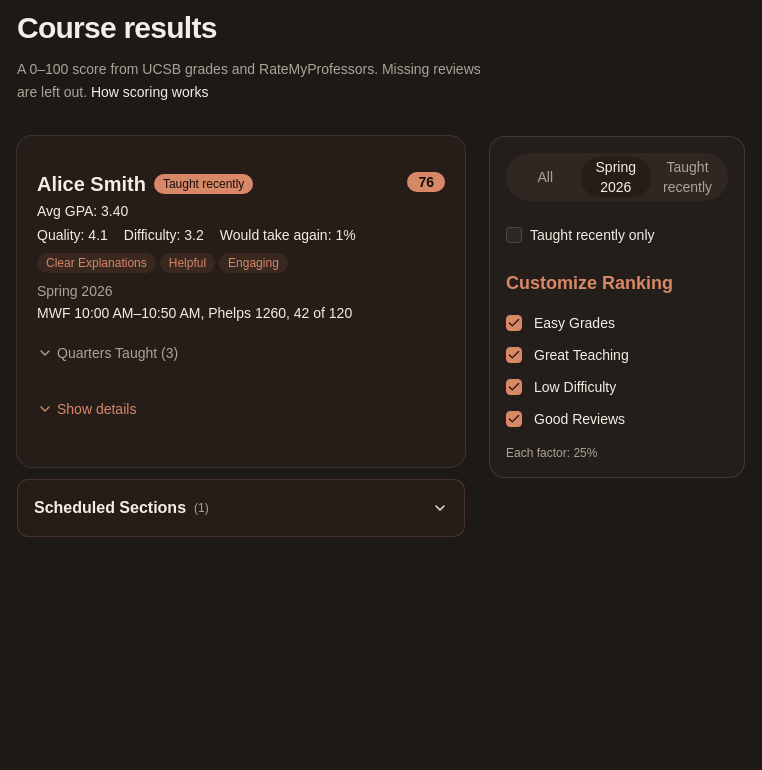
Test: CoursePage - Active Teacher Filter › starts on next quarter and shows the meeting time
Check: the heading "Alice Smith" is shown, box 37,172 -> 146,196
Check: the text "Bob Jones" is not shown
Click the button "All" at {"x": 545, "y": 176}, box 510,156 -> 580,196
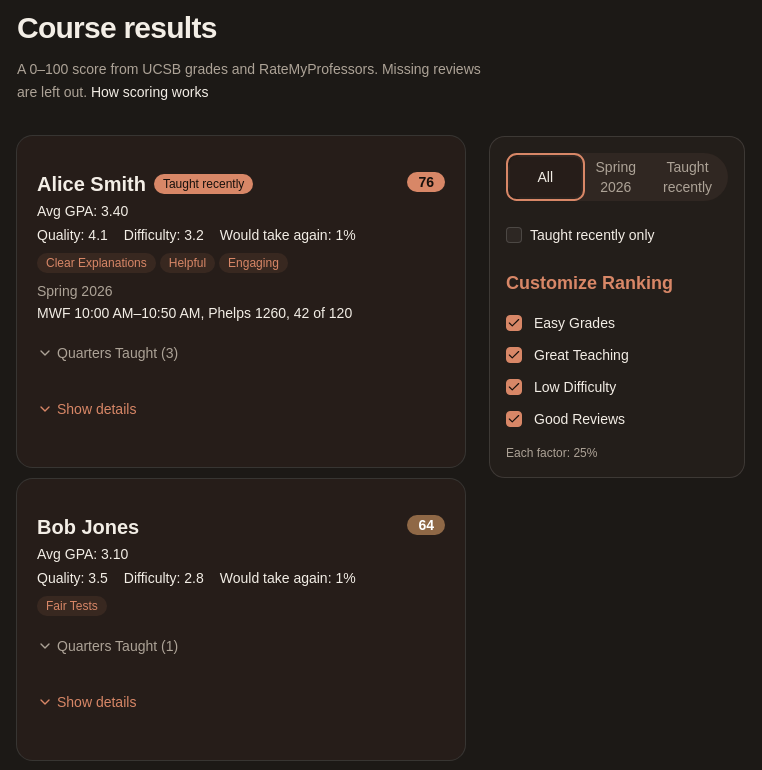
Check: the heading "Bob Jones" is shown, box 37,514 -> 139,540
